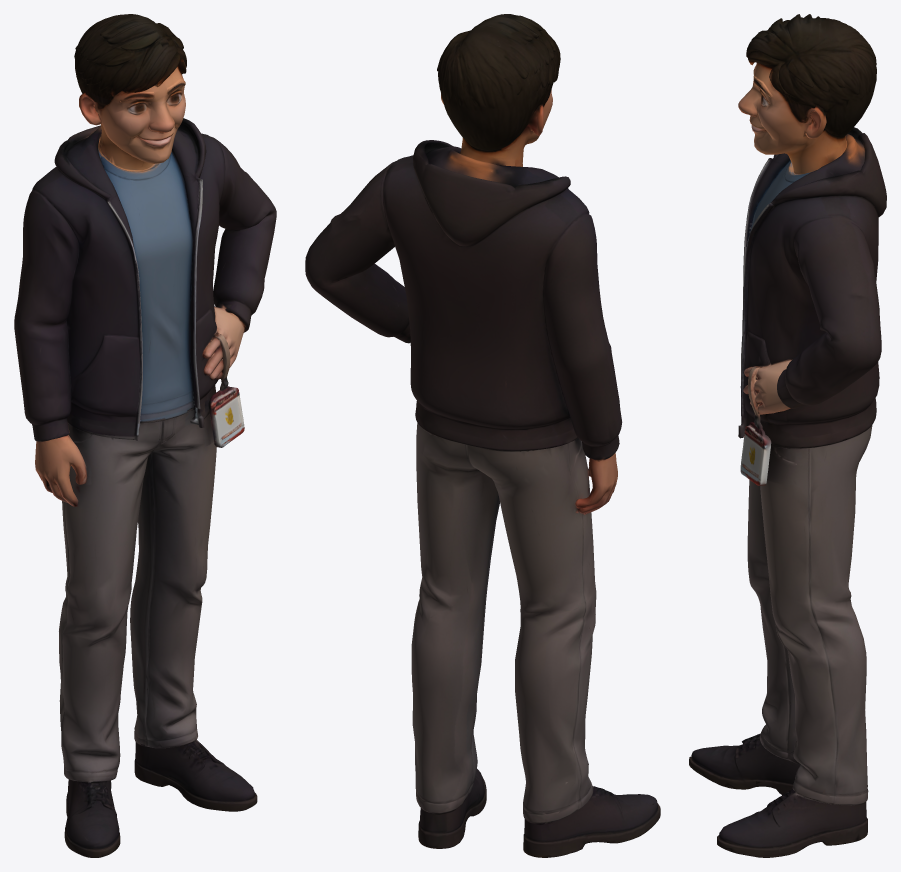
The model's file is chico3.optimized.glb.
The picture shows the model from 3 angles, left to right: view 1: azimuth 30°, elevation 25°; view 2: azimuth 150°, elevation 25°; view 3: azimuth 270°, elevation 25°; orthographic projection. The views are drawn at different scales.
Parts seen in each view (by area): view 1: chico3; view 2: chico3; view 3: chico3.
Boxes of the visible parts, box(x1,y1,x2,y2) form: chico3: box(14, 14, 276, 857); chico3: box(305, 14, 660, 857); chico3: box(689, 14, 886, 857).
Size of the model in its own units: 0.4093 by 1.13 by 0.2546.
Materials: 1 (1 with a texture image).
